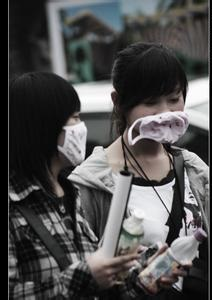face_mask: (131, 79, 184, 154), (56, 104, 84, 162)
